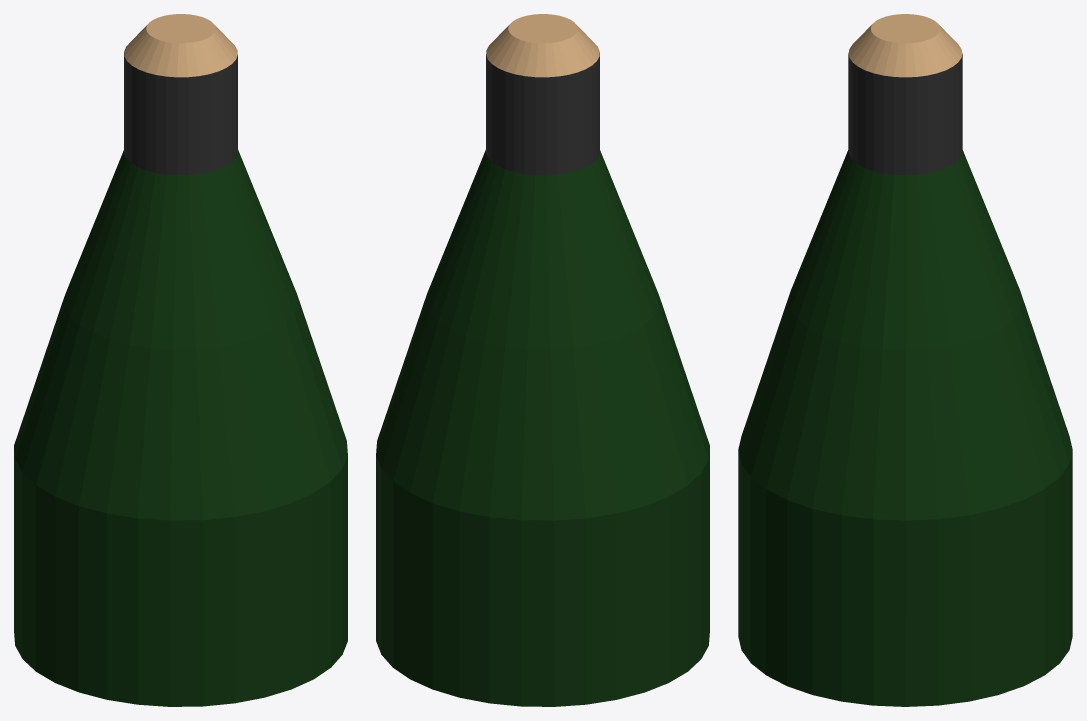
The model's file is WineBottle1WIP.fbx.
The picture shows the model from 3 angles, left to right: view 1: azimuth 30°, elevation 25°; view 2: azimuth 150°, elevation 25°; view 3: azimuth 270°, elevation 25°; orthographic projection.
Parts seen in each view (by area): view 1: Cylinder; view 2: Cylinder; view 3: Cylinder.
Boxes of the visible parts, x1,y1,x2,y2 form: Cylinder: [14, 14, 347, 706]; Cylinder: [376, 14, 709, 706]; Cylinder: [738, 14, 1072, 706].
Bounding box in the file's own units: 24.26 × 48.61 × 24.26.
